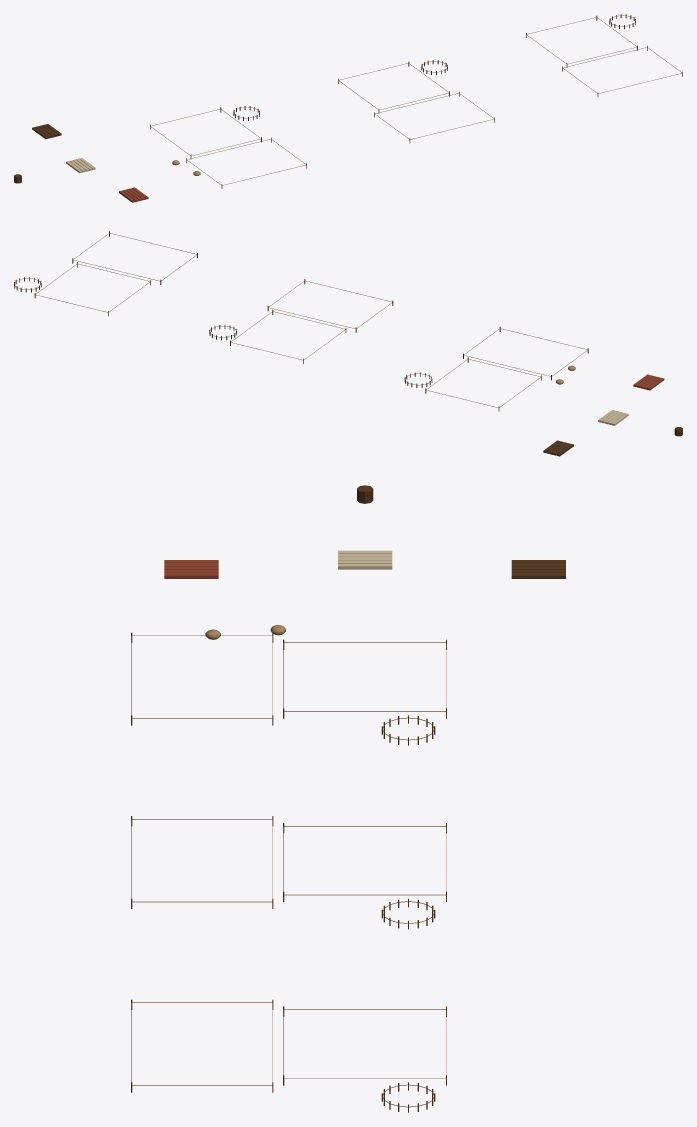
3 views of the same model, one above another, from view 1: azimuth 30°, elevation 25°; view 2: azimuth 150°, elevation 25°; view 3: azimuth 270°, elevation 25° (orthographic). The views are drawn at different scales.
Visible parts, largest first — view 1: furnaceA_K0; view 2: furnaceA_K0; view 3: furnaceA_K0.
Part boxes in pixels (x1=…): furnaceA_K0: x1=14, y1=14, x2=682, y2=202; furnaceA_K0: x1=14, y1=231, x2=682, y2=456; furnaceA_K0: x1=131, y1=485, x2=565, y2=1112.
Bounding box in the file's own units: 134 × 1.26 × 40.05.
